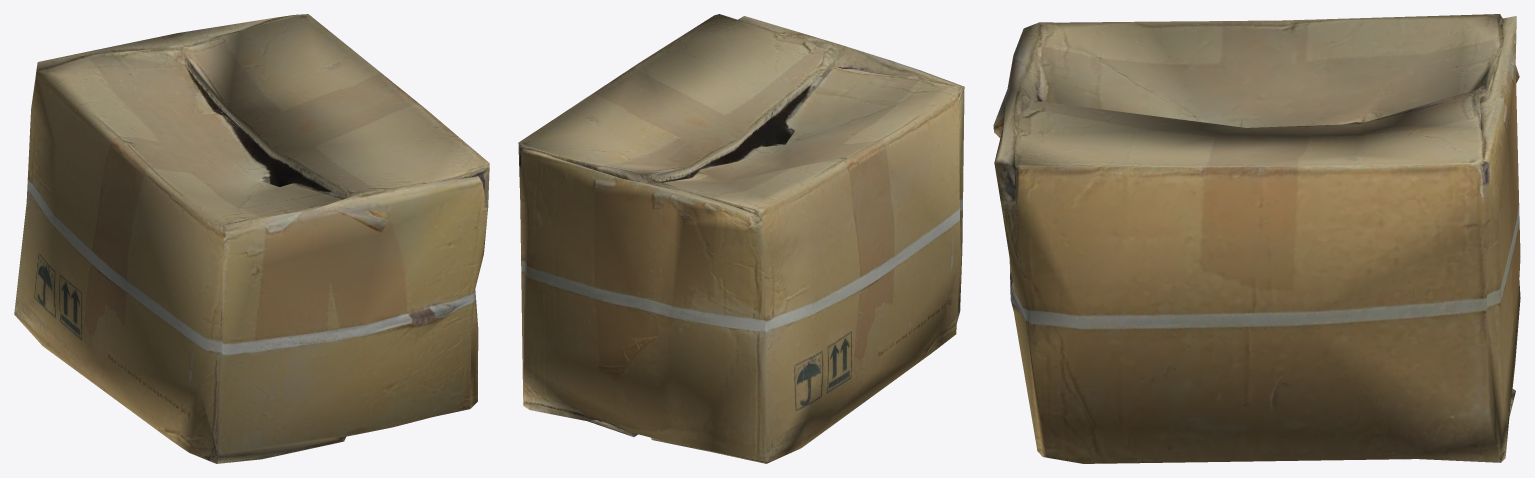
Rendered from cardboard_box_01.glb.
3 renders of one model, left to right at view 1: azimuth 30°, elevation 25°; view 2: azimuth 150°, elevation 25°; view 3: azimuth 270°, elevation 25°, orthographic. The views are drawn at different scales.
Visible parts, largest first — view 1: cardboard_box_01; view 2: cardboard_box_01; view 3: cardboard_box_01.
Boxes of the visible parts, x1,y1,x2,y2 form: cardboard_box_01: (14,14,489,463); cardboard_box_01: (518,14,964,463); cardboard_box_01: (993,14,1520,463).
Size of the model in its own units: 0.3827 by 0.3358 by 0.5159.
1 material, 1 textured.
